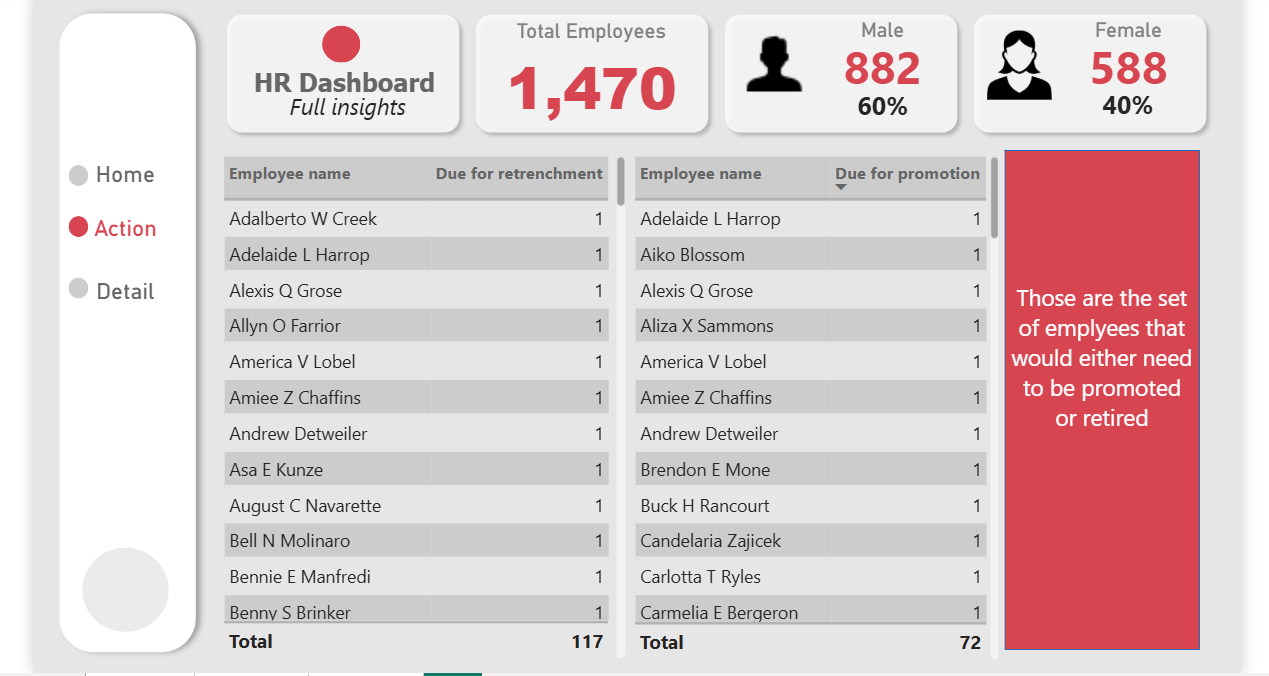

This screenshot's page, from the dashboard's own definition file:
{"tool":"powerbi","page":{"name":"Action","canvas":[1280,720],"ordinal":1},"visuals":[{"type":"shape","box":[1028.6,166.2,207,530.1],"z":0},{"type":"shape","box":[16.5,9.6,166.5,699.2],"z":1000},{"type":"shape","box":[195.4,12.4,264.3,143.1],"z":2000},{"type":"shape","box":[459.7,12.4,264.3,143.1],"z":3000},{"type":"shape","box":[724,12.4,264.3,143.1],"z":4000},{"type":"shape","box":[988.2,12.4,264.3,143.1],"z":5000},{"type":"textbox","box":[209.7,71.2,238.7,51.4],"z":6000},{"type":"textbox","box":[209.7,97.6,251.9,55.4],"z":8000},{"type":"shape","box":[305.9,33,40.9,39.6],"z":9000},{"type":"card","title":"Total Employees","fields":{"Values":["All Measures.Total Emp"]},"box":[468,27.5,246.4,112.9],"z":10000},{"type":"card","title":"Male","fields":{"Values":["All Measures.Male"]},"box":[814.8,26.2,170.7,75.7],"z":11000},{"type":"card","fields":{"Values":["All Measures.Male %"]},"box":[834.1,90.8,132.1,55.1],"z":12000},{"type":"card","title":"Female","fields":{"Values":["All Measures.Female"]},"box":[1068.7,26.2,183.1,75.7],"z":13000},{"type":"card","fields":{"Values":["All Measures.Female %"]},"box":[1083.9,90.8,152.8,53.7],"z":14000},{"type":"image","box":[736.3,26.2,95,90.8],"z":15000},{"type":"image","box":[1004.7,33,79.8,84],"z":16000},{"type":"tableEx","fields":{"Values":["HR employee data.Emplyee name","All Measures.Due for retirment"]},"box":[195.4,166.5,436.3,542.3],"z":17000},{"type":"tableEx","fields":{"Values":["HR employee data.Emplyee name","All Measures.Due for promotion"]},"box":[631.7,166.5,396.4,543.7],"z":18000},{"type":"textbox","box":[1029.3,299.6,206.6,217.4],"z":19000},{"type":"shape","box":[36.9,300.7,21.1,22.4],"z":20000},{"type":"actionButton","title":"Detail","box":[27.7,300.7,139.8,58],"z":21000},{"type":"shape","box":[36.9,236,21.1,22.4],"z":22000},{"type":"actionButton","title":"Action","box":[27.7,233.4,139.8,65.9],"z":23000},{"type":"shape","box":[36.9,180.7,21.1,22.4],"z":24000},{"type":"actionButton","title":"Home","box":[27.7,176.7,139.8,56.7],"z":25000},{"type":"shape","box":[51.4,586.8,92.3,89.7],"z":26000}]}

Visuals, with their boxes on the page's 1280x720 design canvas (x1, y1, x2, y2). These are canvas units, not pixel positions in the 1269x676 screenshot, which may show the page scaled, cropped or inside an application window:
shape: BBox(1029, 166, 1236, 696)
shape: BBox(16, 10, 183, 709)
shape: BBox(195, 12, 460, 156)
shape: BBox(460, 12, 724, 156)
shape: BBox(724, 12, 988, 156)
shape: BBox(988, 12, 1252, 156)
textbox: BBox(210, 71, 448, 123)
textbox: BBox(210, 98, 462, 153)
shape: BBox(306, 33, 347, 73)
"Total Employees" card: BBox(468, 28, 714, 140)
"Male" card: BBox(815, 26, 986, 102)
card - All Measures.Male %: BBox(834, 91, 966, 146)
"Female" card: BBox(1069, 26, 1252, 102)
card - All Measures.Female %: BBox(1084, 91, 1237, 144)
image: BBox(736, 26, 831, 117)
image: BBox(1005, 33, 1084, 117)
tableEx - HR employee data.Emplyee name x All Measures.Due for retirment: BBox(195, 166, 632, 709)
tableEx - HR employee data.Emplyee name x All Measures.Due for promotion: BBox(632, 166, 1028, 710)
textbox: BBox(1029, 300, 1236, 517)
shape: BBox(37, 301, 58, 323)
"Detail" actionButton: BBox(28, 301, 168, 359)
shape: BBox(37, 236, 58, 258)
"Action" actionButton: BBox(28, 233, 168, 299)
shape: BBox(37, 181, 58, 203)
"Home" actionButton: BBox(28, 177, 168, 233)
shape: BBox(51, 587, 144, 676)
